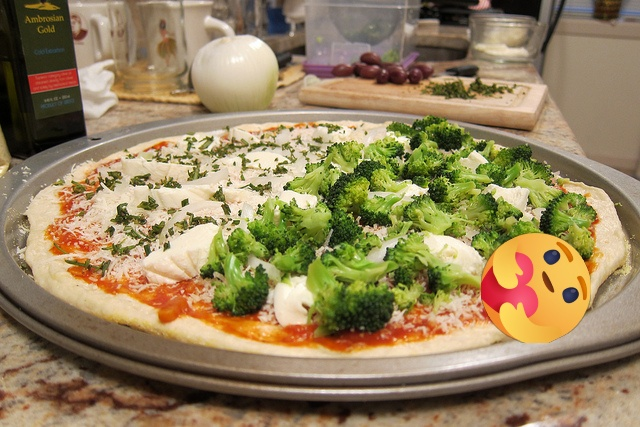care: (481, 233, 591, 343)
